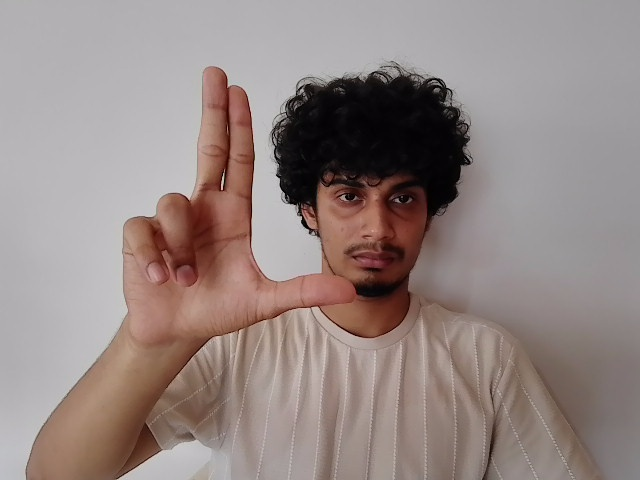no: (118, 67, 356, 330)
